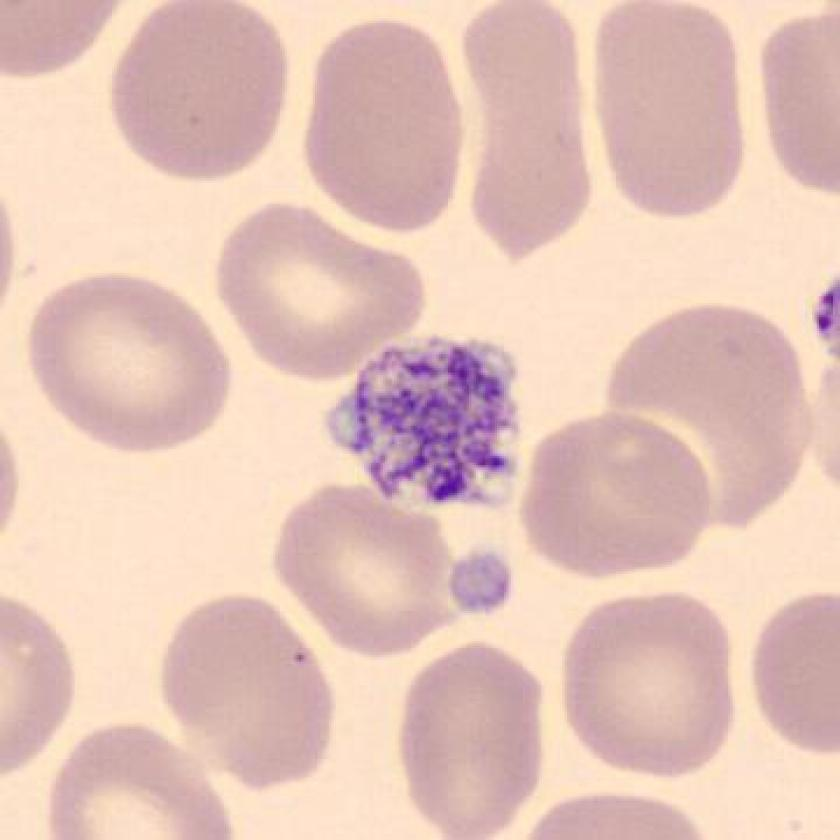platelets: (319, 327, 543, 522)
